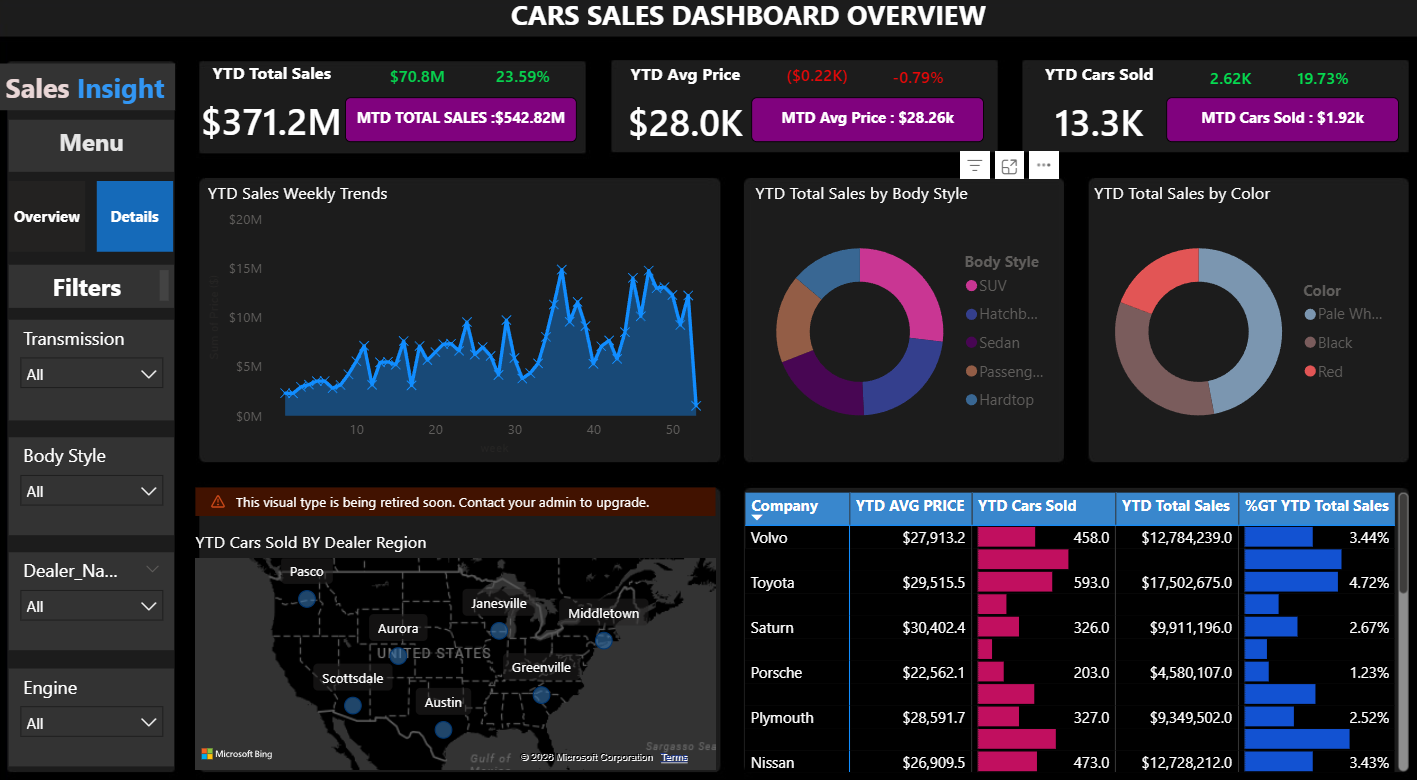

Layout of this report page (visuals, bound fields, positions):
{"tool":"powerbi","page":{"name":"Overview","canvas":[1280,720],"ordinal":0},"visuals":[{"type":"card","title":"YTD Total Sales","fields":{"Values":["car_data.YTD Total Sales"]},"box":[179.1,62.6,143.6,87.1],"z":0},{"type":"card","fields":{"Values":["car_data.Sales Difference"]},"box":[335.2,62,91.7,30.6],"z":1000},{"type":"card","fields":{"Values":["car_data.YOY Sales Growth"]},"box":[427,62,95,31],"z":2000},{"type":"card","fields":{"Values":["car_data.MTD KPI"]},"box":[316.4,94.5,206.4,40],"z":3000},{"type":"card","title":"YTD Avg Price ","fields":{"Values":["car_data.YTD AVG PRICE"]},"box":[547.3,63.6,143.6,87.3],"z":4000},{"type":"card","fields":{"Values":["car_data.Avg Price Diff"]},"box":[691.1,62.2,91.1,30],"z":5000},{"type":"card","fields":{"Values":["car_data.YOY Avg Price Growth"]},"box":[781.8,63.6,90.9,30],"z":6000},{"type":"card","fields":{"Values":["car_data.MTD Avg Price KPI"]},"box":[678.2,94.5,207.3,40],"z":7000},{"type":"card","title":"YTD Cars  Sold","fields":{"Values":["car_data.YTD Cars Sold"]},"box":[916.4,63.6,143.6,87.3],"z":8000},{"type":"card","fields":{"Values":["car_data.Cars Sold Diff"]},"box":[1060,64.5,90.9,30],"z":9000},{"type":"card","fields":{"Values":["car_data.YOY Car Sold Growth"]},"box":[1141.8,64.5,90.9,30],"z":10000},{"type":"card","fields":{"Values":["car_data.MTD Cars Sold KPI"]},"box":[1047.3,94.5,207.3,40],"z":11000},{"type":"areaChart","title":"YTD Sales Weekly Trends","fields":{"Category":["calendar table.week"],"Y":["Sum(car_data.Price ($))"]},"box":[189.1,169.1,461.8,249.1],"z":12000},{"type":"donutChart","fields":{"Category":["car_data.Body Style"],"Y":["car_data.YTD Total Sales"]},"box":[677,169,276,249],"z":13000},{"type":"donutChart","fields":{"Category":["car_data.Color"],"Y":["car_data.YTD Total Sales"]},"box":[978,169,276,249],"z":14000},{"type":"map","title":"YTD Cars Sold BY Dealer Region","fields":{"Category":["car_data.Dealer_Region"]},"box":[178.1,441.9,473.1,257.1],"z":15000},{"type":"textbox","box":[371.4,0,607.1,60],"z":16000},{"type":"slicer","fields":{"Values":["car_data.Body Style"]},"box":[17.2,397.5,147.2,87.1],"z":17000},{"type":"slicer","fields":{"Values":["car_data.Dealer_Name"]},"box":[17.2,499.4,147.2,87.1],"z":18000},{"type":"slicer","fields":{"Values":["car_data.Transmission"]},"box":[17.2,293.3,147.2,89.6],"z":19000},{"type":"slicer","fields":{"Values":["car_data.Engine"]},"box":[17.2,603.7,147.2,87.1],"z":20000},{"type":"textbox","box":[17.2,244.2,147.2,38],"z":21000},{"type":"textbox","box":[8.6,65,155.8,41.7],"z":22000},{"type":"pageNavigator","box":[17.2,169.3,147.2,63.8],"z":23000},{"type":"textbox","box":[17.2,114.1,147.2,46.6],"z":24000},{"type":"pivotTable","title":"Company Wise Salary","fields":{"Rows":["car_data.Company"],"Values":["car_data.YTD AVG PRICE","car_data.YTD Cars Sold","car_data.YTD Total Sales","Divide(car_data.YTD Total Sales, ScopedEval(car_data.YTD Total Sales, []))"]},"box":[667.5,441.7,600,257.7],"z":25000}]}

Visuals, with their boxes on the page's 1280x720 design canvas (x1, y1, x2, y2). These are canvas units, not pixel positions in the 1417x780 screenshot, which may show the page scaled, cropped or inside an application window:
"YTD Total Sales" card: (179,63,323,150)
card - car_data.Sales Difference: (335,62,427,93)
card - car_data.YOY Sales Growth: (427,62,522,93)
card - car_data.MTD KPI: (316,94,523,134)
"YTD Avg Price " card: (547,64,691,151)
card - car_data.Avg Price Diff: (691,62,782,92)
card - car_data.YOY Avg Price Growth: (782,64,873,94)
card - car_data.MTD Avg Price KPI: (678,94,886,134)
"YTD Cars  Sold" card: (916,64,1060,151)
card - car_data.Cars Sold Diff: (1060,64,1151,94)
card - car_data.YOY Car Sold Growth: (1142,64,1233,94)
card - car_data.MTD Cars Sold KPI: (1047,94,1255,134)
"YTD Sales Weekly Trends" areaChart: (189,169,651,418)
donutChart - car_data.Body Style x car_data.YTD Total Sales: (677,169,953,418)
donutChart - car_data.Color x car_data.YTD Total Sales: (978,169,1254,418)
"YTD Cars Sold BY Dealer Region" map: (178,442,651,699)
textbox: (371,0,978,60)
slicer - car_data.Body Style: (17,398,164,485)
slicer - car_data.Dealer_Name: (17,499,164,586)
slicer - car_data.Transmission: (17,293,164,383)
slicer - car_data.Engine: (17,604,164,691)
textbox: (17,244,164,282)
textbox: (9,65,164,107)
pageNavigator: (17,169,164,233)
textbox: (17,114,164,161)
"Company Wise Salary" pivotTable: (668,442,1268,699)
